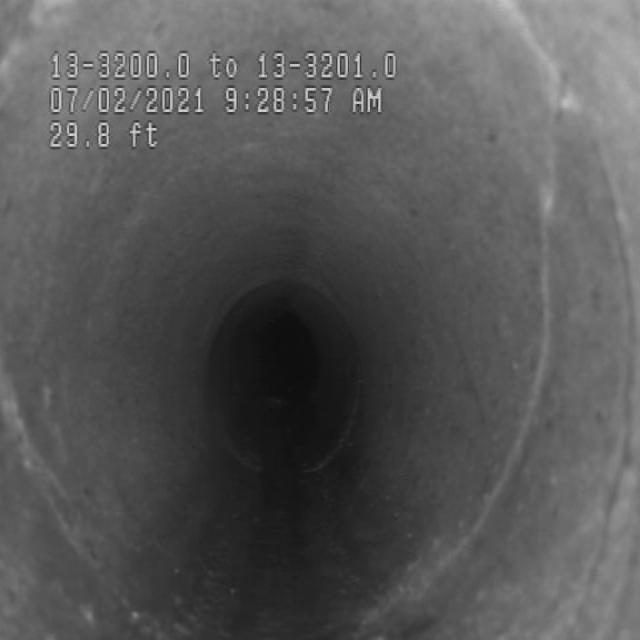Crack: (458, 132, 596, 544)
